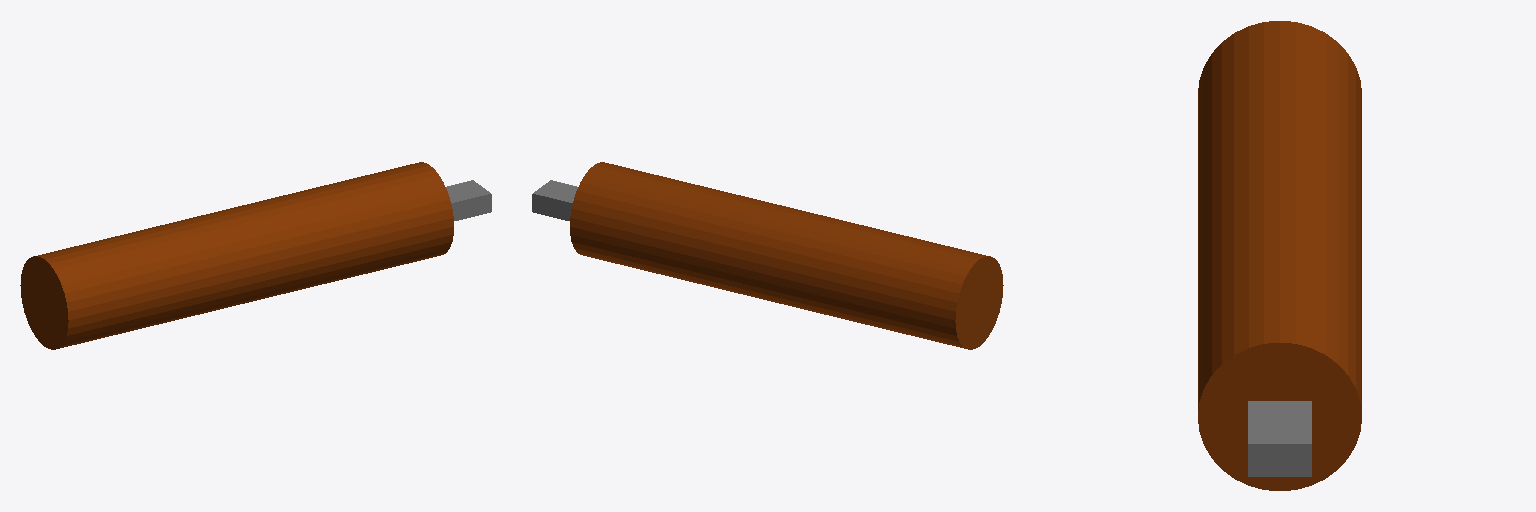
The robot description file, URDF, robot "handle_head":
<?xml version="1.0"?>
<robot name="handle_head">

  <link name="handle_head">
    <!-- Handle -->
    <visual>
              <origin xyz="0 0 0" rpy="0 -1.5707963267948966 0"/>
        <geometry>
          <cylinder length="0.12044837091055535" radius="0.013000270208951236"/>
        </geometry>
        
      <material name="brown">
        <color rgba="0.55 0.27 0.07 1.0"/>
      </material>
    </visual>
    <collision>
              <origin xyz="0 0 0" rpy="0 -1.5707963267948966 0"/>
        <geometry>
          <cylinder length="0.12044837091055535" radius="0.013000270208951236"/>
        </geometry>
        
    </collision>

    <!-- Head -->
    <visual>
              <origin xyz="0.06835091629382455 0 0" rpy="0 0 0"/>
        <geometry>
          <box size="0.01625346167709374 0.009986216406701593 0.005640811877094804"/>
        </geometry>
        
      <material name="gray">
        <color rgba="0.5 0.5 0.5 1.0"/>
      </material>
    </visual>
    <collision>
              <origin xyz="0.06835091629382455 0 0" rpy="0 0 0"/>
        <geometry>
          <box size="0.01625346167709374 0.009986216406701593 0.005640811877094804"/>
        </geometry>
        
    </collision>

    <inertial>
      <origin xyz="0.0008741840441029106 0 0" rpy="0 0 0"/>
      <mass value="0.025319926863394567"/>
      <inertia ixx="2.0626609996284064e-06" iyy="4.2307425543530033e-05" izz="4.230925805349992e-05" ixy="0" ixz="0" iyz="0"/>
    </inertial>
  </link>

</robot>

--- Facts derived from the render (not from the file) ---
Views: 3 orthographic renders of the robot side by side, from view 1: azimuth 30°, elevation 25°; view 2: azimuth 150°, elevation 25°; view 3: azimuth 270°, elevation 25°.
Robot: handle_head — 1 links, 0 joints (none); root link handle_head; default pose: every joint at zero.
Links seen in each view (by area): view 1: handle_head; view 2: handle_head; view 3: handle_head.
Boxes of the visible links, x1,y1,x2,y2 form: handle_head: (20, 162, 491, 349); handle_head: (532, 162, 1003, 349); handle_head: (1198, 21, 1361, 490).
Bounding box of the posed robot: 0.1367 × 0.026 × 0.026 m (x, y, z).
Geometry: primitives only (box / cylinder / sphere), no mesh files.
